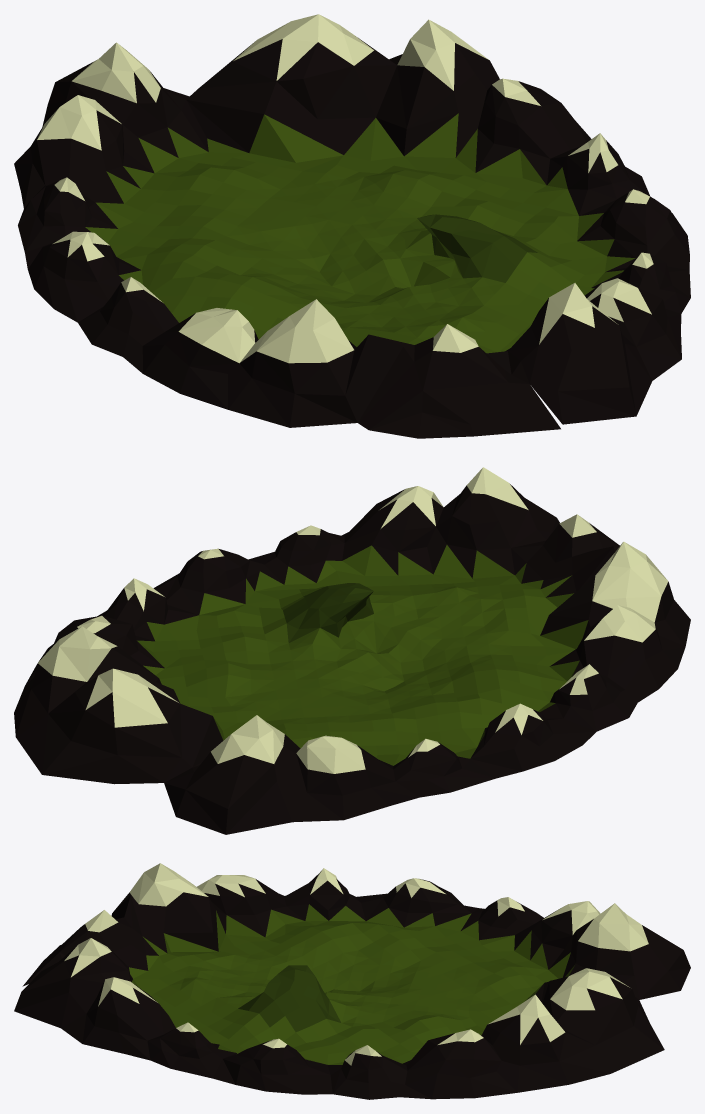
Rendered from SM_Terrain.FBX.
The picture shows the model from 3 angles, top to bottom: view 1: azimuth 30°, elevation 25°; view 2: azimuth 150°, elevation 25°; view 3: azimuth 270°, elevation 25°; orthographic projection. The views are drawn at different scales.
Parts seen in each view (by area): view 1: terrain 002; view 2: terrain 002; view 3: terrain 002.
Boxes of the visible parts, left/top/right/bottom form: terrain 002: left=14, top=14, right=690, bottom=438; terrain 002: left=14, top=467, right=690, bottom=834; terrain 002: left=14, top=863, right=690, bottom=1099.
Bounding box in the file's own units: 321667 × 58408 × 444211.
